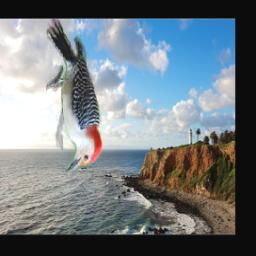Woodpecker: (46, 19, 103, 173)
